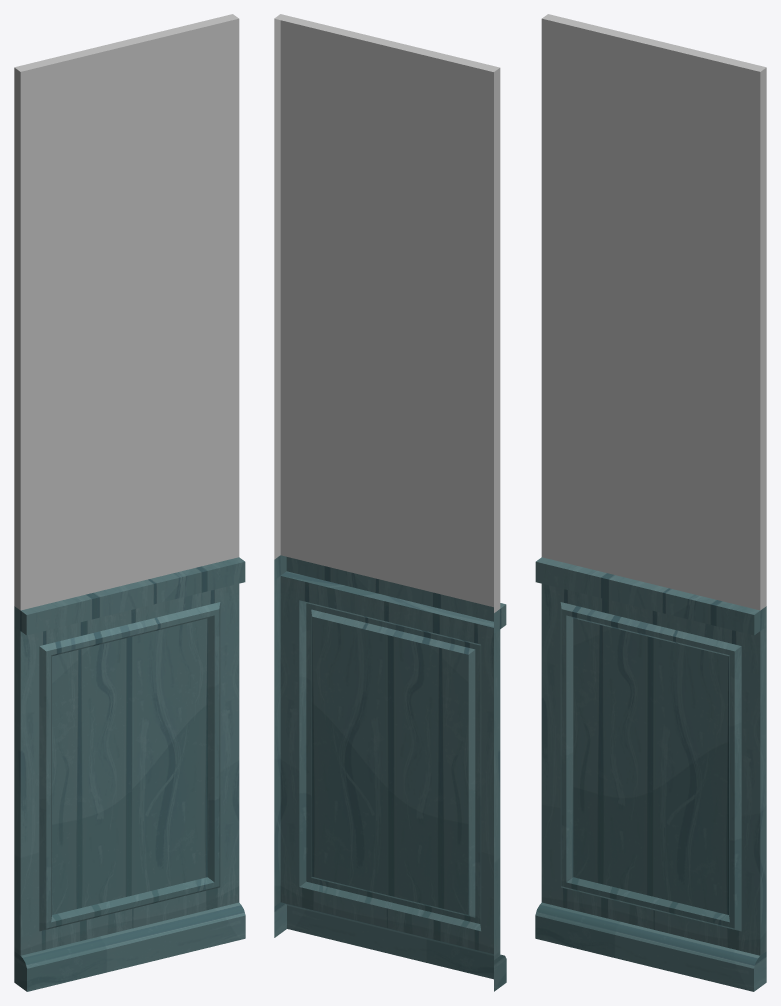
Rendered from Fancy Wall - 4x1.fbx.
3 views of the same model, side by side, from view 1: azimuth 30°, elevation 25°; view 2: azimuth 150°, elevation 25°; view 3: azimuth 330°, elevation 25° (orthographic).
Visible parts, largest first — view 1: Fancy Wall 4x1; view 2: Fancy Wall 4x1; view 3: Fancy Wall 4x1.
Part boxes in pixels (x1,y1,x2,y2): Fancy Wall 4x1: (14, 14, 245, 991); Fancy Wall 4x1: (274, 14, 506, 991); Fancy Wall 4x1: (535, 14, 766, 991).
Size of the model in its own units: 39.37 by 157 by 4.02.
